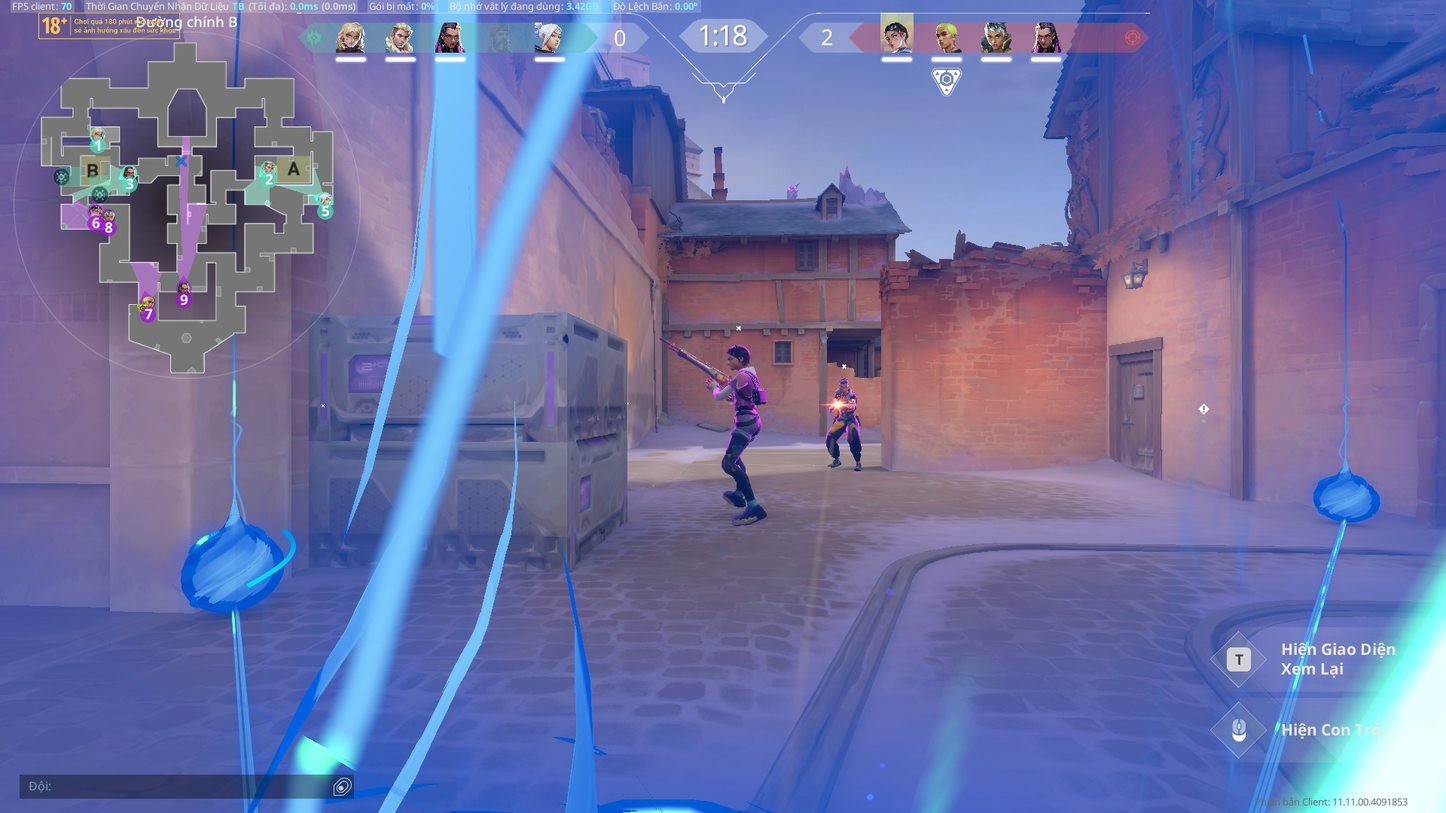body: (717, 361, 771, 428), (830, 388, 861, 419)
head: (725, 346, 754, 370), (839, 378, 850, 393)
